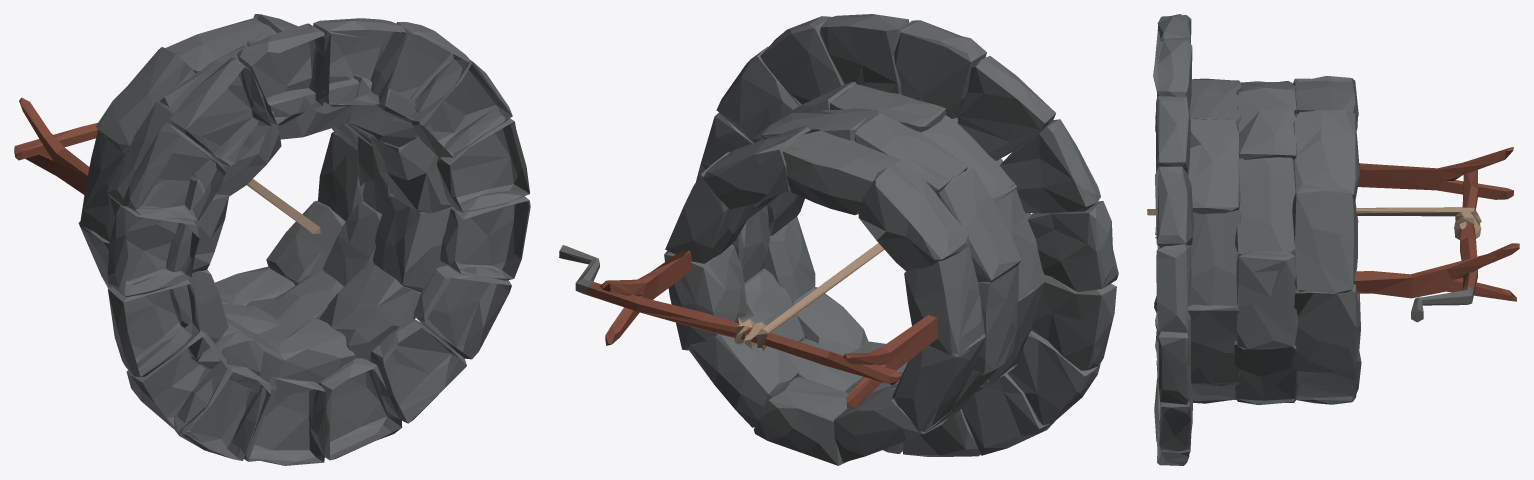
The model's file is well.FBX.
3 renders of one model, left to right at view 1: azimuth 30°, elevation 25°; view 2: azimuth 150°, elevation 25°; view 3: azimuth 270°, elevation 25°, orthographic. The views are drawn at different scales.
Parts seen in each view (by area): view 1: well; view 2: well; view 3: well.
Boxes of the visible parts, bbox=[...] form: well: bbox=[14, 14, 530, 465]; well: bbox=[559, 14, 1118, 465]; well: bbox=[1147, 14, 1519, 465].
Size of the model in its own units: 191 by 187 by 154.
